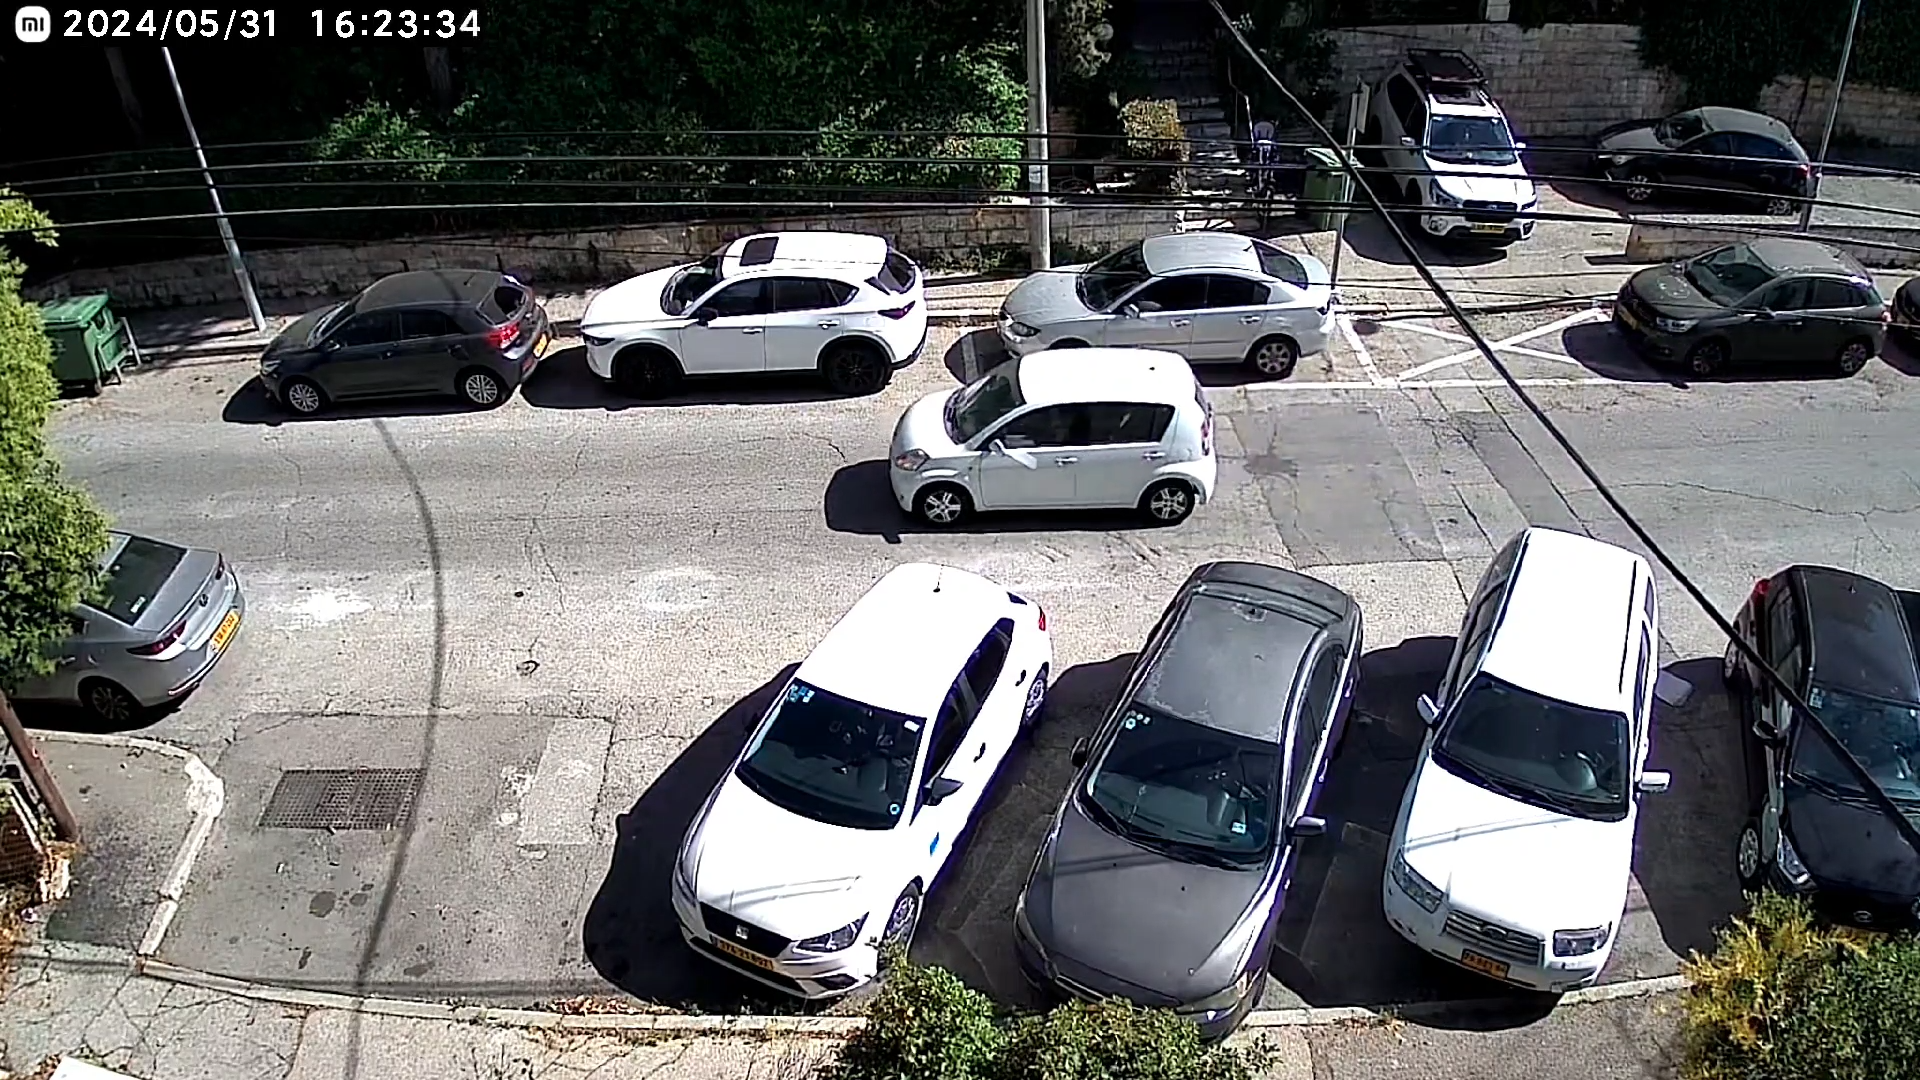moving car: (891, 349, 1218, 526)
